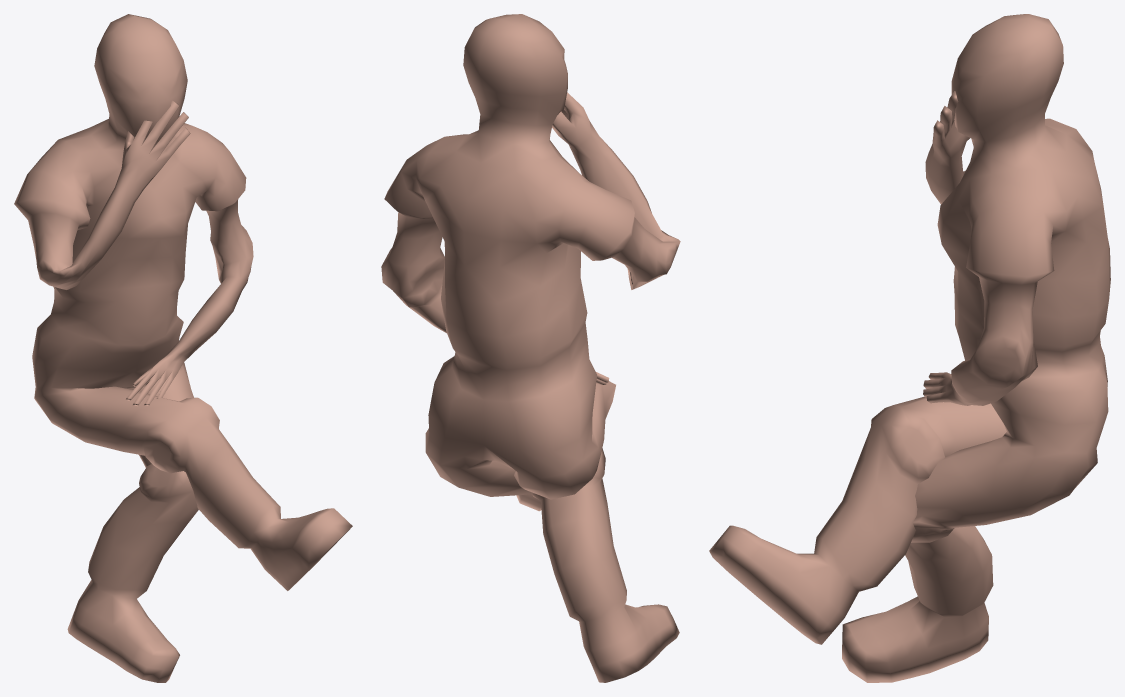
The model's file is mom_smoking.fbx.
The picture shows the model from 3 angles, left to right: view 1: azimuth 30°, elevation 25°; view 2: azimuth 150°, elevation 25°; view 3: azimuth 270°, elevation 25°; orthographic projection. The views are drawn at different scales.
Visible parts, largest first — view 1: RobotHumanoid:robot; view 2: RobotHumanoid:robot; view 3: RobotHumanoid:robot.
Boxes of the visible parts, box(x1,y1,x2,y2) form: RobotHumanoid:robot: box(14, 14, 352, 682); RobotHumanoid:robot: box(381, 14, 680, 682); RobotHumanoid:robot: box(709, 14, 1110, 682).
Size of the model in its own units: 5.03 by 12.54 by 6.67.
